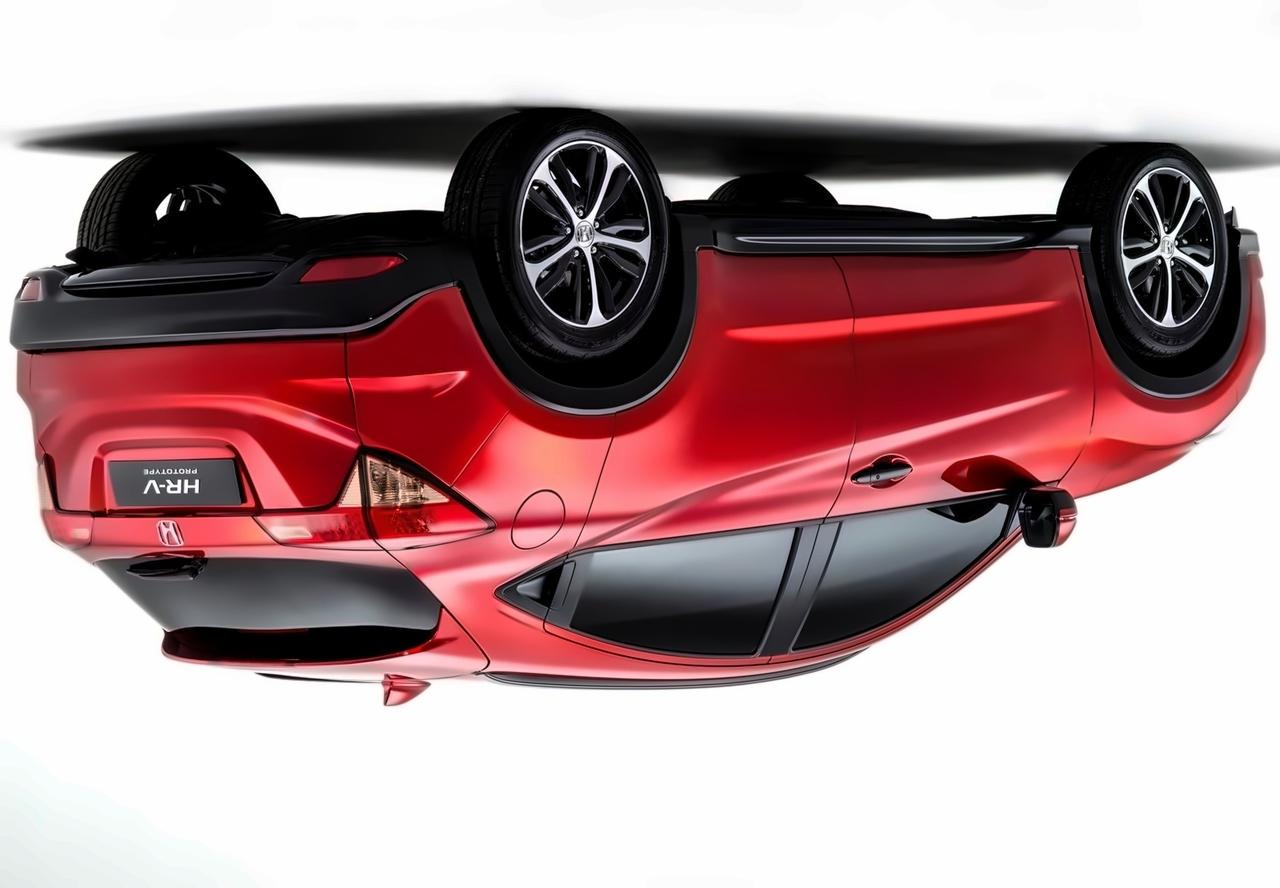Car boot: (27, 327, 495, 690)
Fender - -F-L-: (1040, 240, 1241, 500)
Fender - -R-L-: (413, 375, 617, 597)
Front bumper: (1229, 192, 1280, 409)
Passenger-s door - -F-L-: (795, 237, 1097, 674)
Passenger-s door - -R-L-: (545, 240, 857, 671)
Rear bumper: (2, 234, 522, 491)
Rear light - -L-: (242, 435, 500, 557)
Rear light - -R-: (22, 440, 103, 553)
Side bumper - -L-: (645, 197, 1110, 271)
Side mirror - -L-: (999, 467, 1083, 560)
